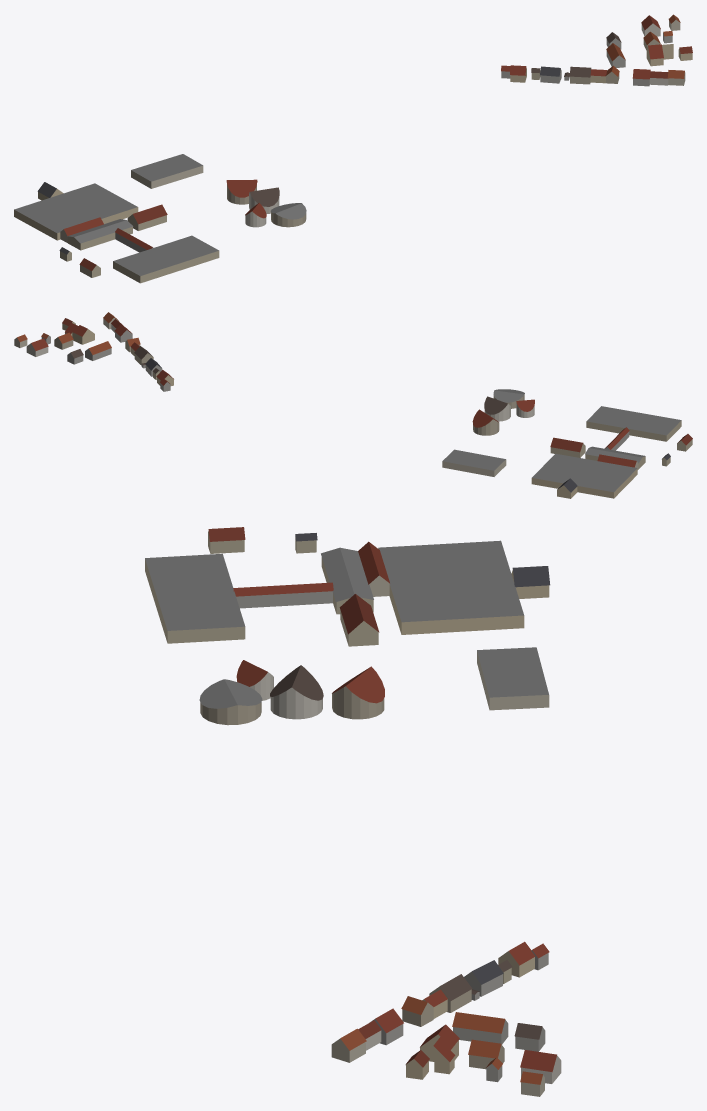
3 views of the same model, one above another, from view 1: azimuth 30°, elevation 25°; view 2: azimuth 150°, elevation 25°; view 3: azimuth 270°, elevation 25° (orthographic). The views are drawn at different scales.
Parts seen in each view (by area): view 1: buildings; view 2: buildings; view 3: buildings.
Part boxes in pixels (left/top/right/bottom): buildings: left=14, top=14, right=692, bottom=283; buildings: left=14, top=312, right=692, bottom=498; buildings: left=145, top=527, right=561, bottom=1096.
Bounding box in the file's own units: 589 × 26.69 × 178.
